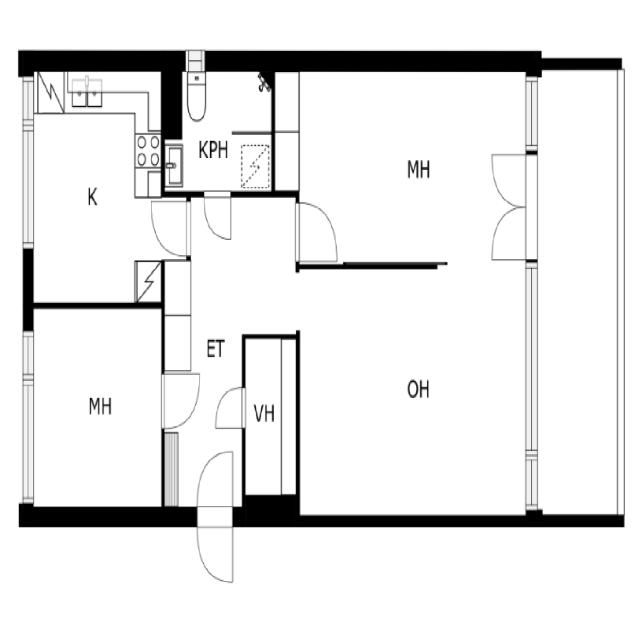door: (190, 442, 241, 592), (482, 142, 534, 265), (292, 192, 346, 265), (146, 192, 196, 262), (158, 362, 204, 435), (200, 186, 236, 246), (212, 382, 250, 436)
window: (516, 253, 547, 493), (15, 73, 39, 258), (18, 327, 38, 509), (519, 68, 544, 156)
zone: (297, 261, 528, 519), (284, 69, 534, 264), (27, 76, 166, 312), (28, 302, 166, 517), (167, 64, 275, 196), (244, 335, 300, 507)
